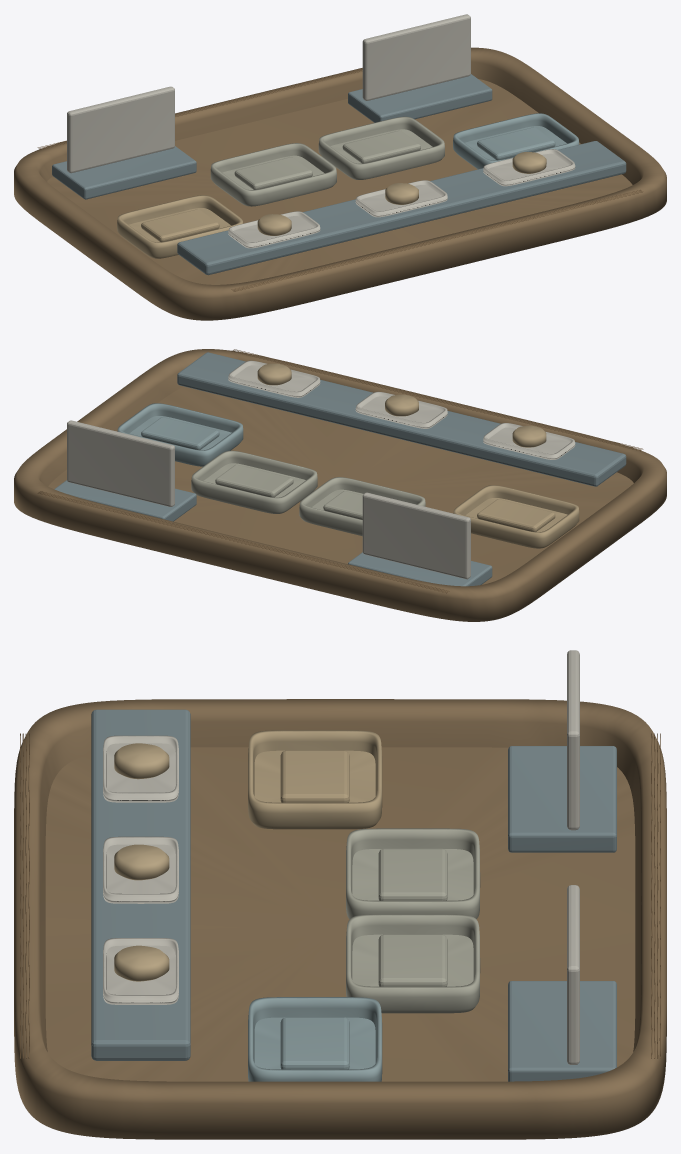
Rendered from kingdom-assembly.glb.
The picture shows the model from 3 angles, top to bottom: view 1: azimuth 30°, elevation 25°; view 2: azimuth 150°, elevation 25°; view 3: azimuth 270°, elevation 25°; orthographic projection. The views are drawn at different scales.
Visible parts, largest first — view 1: kingdom-assembly-kingdom-original-reading-wood, kingdom-assembly-kingdom-modern-neutral-fixture, kingdom-assembly-kingdom-modern-pale-fixture.002, kingdom-assembly-kingdom-modern-pale-fixture.001, kingdom-assembly-kingdom-modern-two-advice-markers, kingdom-assembly-kingdom-modern-two-advice-markers.001, kingdom-assembly-kingdom-modern-pale-fixture, kingdom-assembly-kingdom-modern-request-marker, kingdom-assembly-kingdom-modern-response-marker, kingdom-assembly-kingdom-modern-neutral-fixture.001, kingdom-assembly-kingdom-modern-neutral-fixture.002, kingdom-assembly-kingdom-reading-wood-grain (+1 smaller); view 2: kingdom-assembly-kingdom-original-reading-wood, kingdom-assembly-kingdom-modern-neutral-fixture, kingdom-assembly-kingdom-modern-pale-fixture.001, kingdom-assembly-kingdom-modern-pale-fixture.002, kingdom-assembly-kingdom-modern-two-advice-markers.001, kingdom-assembly-kingdom-modern-request-marker, kingdom-assembly-kingdom-modern-pale-fixture, kingdom-assembly-kingdom-modern-response-marker, kingdom-assembly-kingdom-modern-two-advice-markers, kingdom-assembly-kingdom-reading-wood-grain, kingdom-assembly-kingdom-modern-neutral-fixture.002, kingdom-assembly-kingdom-modern-neutral-fixture.001 (+1 smaller); view 3: kingdom-assembly-kingdom-original-reading-wood, kingdom-assembly-kingdom-modern-neutral-fixture, kingdom-assembly-kingdom-modern-request-marker, kingdom-assembly-kingdom-modern-two-advice-markers.001, kingdom-assembly-kingdom-modern-two-advice-markers, kingdom-assembly-kingdom-modern-response-marker, kingdom-assembly-kingdom-modern-neutral-fixture.001, kingdom-assembly-kingdom-modern-pale-fixture, kingdom-assembly-kingdom-modern-neutral-fixture.002, kingdom-assembly-kingdom-modern-request-marker.001, kingdom-assembly-kingdom-reading-wood-grain, kingdom-assembly-kingdom-modern-pale-fixture.001 (+1 smaller).
Boxes of the visible parts, box(x1,y1,x2,y2) form: kingdom-assembly-kingdom-original-reading-wood: box(14, 47, 666, 320); kingdom-assembly-kingdom-modern-neutral-fixture: box(177, 141, 626, 275); kingdom-assembly-kingdom-modern-pale-fixture.002: box(362, 14, 470, 100); kingdom-assembly-kingdom-modern-pale-fixture.001: box(67, 86, 174, 173); kingdom-assembly-kingdom-modern-two-advice-markers: box(210, 143, 336, 206); kingdom-assembly-kingdom-modern-two-advice-markers.001: box(318, 116, 444, 179); kingdom-assembly-kingdom-modern-pale-fixture: box(228, 149, 575, 248); kingdom-assembly-kingdom-modern-request-marker: box(117, 195, 242, 258); kingdom-assembly-kingdom-modern-response-marker: box(453, 113, 579, 169); kingdom-assembly-kingdom-modern-neutral-fixture.001: box(52, 146, 196, 199); kingdom-assembly-kingdom-modern-neutral-fixture.002: box(348, 74, 492, 122); kingdom-assembly-kingdom-reading-wood-grain: box(37, 68, 643, 291); kingdom-assembly-kingdom-original-reading-wood: box(14, 349, 666, 621); kingdom-assembly-kingdom-modern-neutral-fixture: box(177, 352, 626, 486); kingdom-assembly-kingdom-modern-pale-fixture.001: box(362, 492, 470, 579); kingdom-assembly-kingdom-modern-pale-fixture.002: box(67, 420, 174, 506); kingdom-assembly-kingdom-modern-two-advice-markers.001: box(191, 450, 317, 513); kingdom-assembly-kingdom-modern-request-marker: box(453, 485, 579, 548); kingdom-assembly-kingdom-modern-pale-fixture: box(228, 360, 575, 459); kingdom-assembly-kingdom-modern-response-marker: box(117, 403, 243, 466); kingdom-assembly-kingdom-modern-two-advice-markers: box(299, 477, 425, 536); kingdom-assembly-kingdom-reading-wood-grain: box(37, 349, 643, 593); kingdom-assembly-kingdom-modern-neutral-fixture.002: box(54, 480, 196, 521); kingdom-assembly-kingdom-modern-neutral-fixture.001: box(348, 552, 492, 586); kingdom-assembly-kingdom-original-reading-wood: box(14, 699, 666, 1139); kingdom-assembly-kingdom-modern-neutral-fixture: box(91, 709, 190, 1060); kingdom-assembly-kingdom-modern-request-marker: box(248, 730, 382, 829); kingdom-assembly-kingdom-modern-two-advice-markers.001: box(346, 914, 480, 1013); kingdom-assembly-kingdom-modern-two-advice-markers: box(346, 828, 480, 919); kingdom-assembly-kingdom-modern-response-marker: box(248, 997, 382, 1081); kingdom-assembly-kingdom-modern-neutral-fixture.001: box(508, 746, 616, 852); kingdom-assembly-kingdom-modern-pale-fixture: box(103, 735, 178, 1004); kingdom-assembly-kingdom-modern-neutral-fixture.002: box(508, 981, 616, 1081); kingdom-assembly-kingdom-modern-request-marker.001: box(114, 743, 169, 981); kingdom-assembly-kingdom-reading-wood-grain: box(20, 733, 660, 1058); kingdom-assembly-kingdom-modern-pale-fixture.001: box(567, 650, 579, 830).
Bounding box in the file's own units: 1.3 × 0.209 × 0.9.
